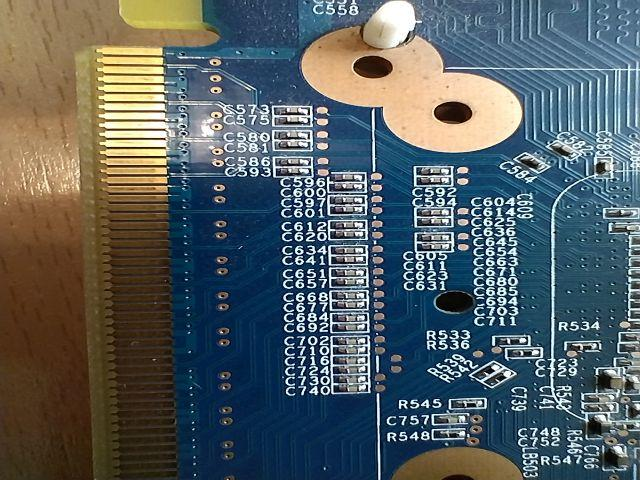capacitor: (519, 151, 553, 180), (271, 143, 317, 161), (324, 169, 366, 188), (330, 376, 366, 398), (415, 237, 450, 257), (598, 373, 624, 398), (416, 162, 459, 177), (330, 218, 369, 233), (332, 321, 366, 338), (330, 190, 368, 205), (266, 161, 301, 177), (333, 357, 369, 372), (332, 336, 370, 350), (325, 229, 365, 242), (332, 289, 369, 303), (272, 129, 310, 142), (552, 139, 576, 159), (274, 113, 310, 126), (414, 228, 452, 240), (414, 174, 449, 187), (338, 309, 372, 322), (333, 275, 364, 289), (331, 265, 362, 279), (415, 219, 451, 231), (273, 105, 316, 115), (277, 153, 312, 165), (435, 412, 465, 425), (333, 298, 365, 310), (334, 255, 366, 267), (338, 343, 366, 356), (337, 368, 361, 383), (332, 249, 370, 258), (421, 205, 449, 217), (334, 203, 366, 213), (333, 182, 361, 190)
resistor: (501, 327, 531, 351), (428, 428, 470, 441), (473, 359, 501, 378), (489, 367, 510, 391), (450, 396, 481, 409), (570, 338, 596, 352)
